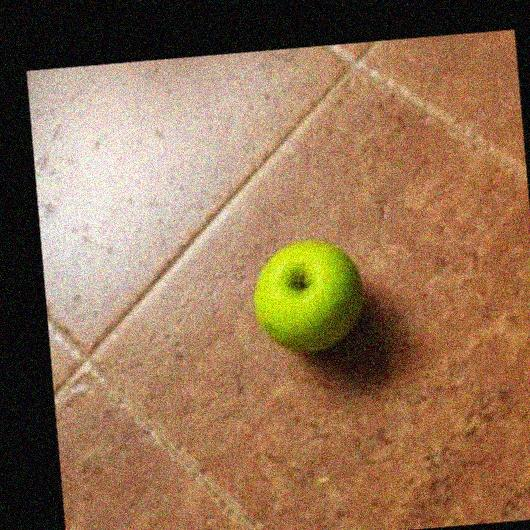green apple: (254, 239, 365, 354)
